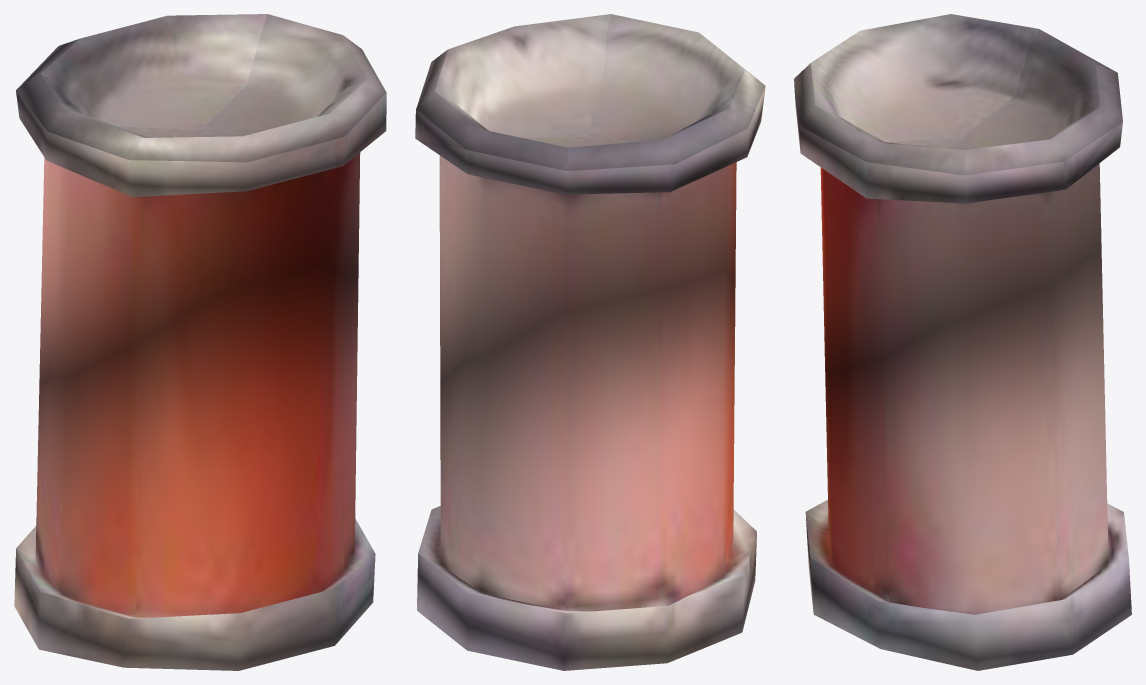
The model's file is tomato-puree.glb.
The picture shows the model from 3 angles, left to right: view 1: azimuth 30°, elevation 25°; view 2: azimuth 150°, elevation 25°; view 3: azimuth 270°, elevation 25°; orthographic projection. The views are drawn at different scales.
Visible parts, largest first — view 1: Tomato Puree; view 2: Tomato Puree; view 3: Tomato Puree.
Boxes of the visible parts, x1=… form: Tomato Puree: x1=14, y1=14, x2=386, y2=670; Tomato Puree: x1=415, y1=14, x2=765, y2=670; Tomato Puree: x1=794, y1=14, x2=1131, y2=670.
Size of the model in its own units: 1.02 by 1.63 by 0.9659.
1 material, 1 textured.
